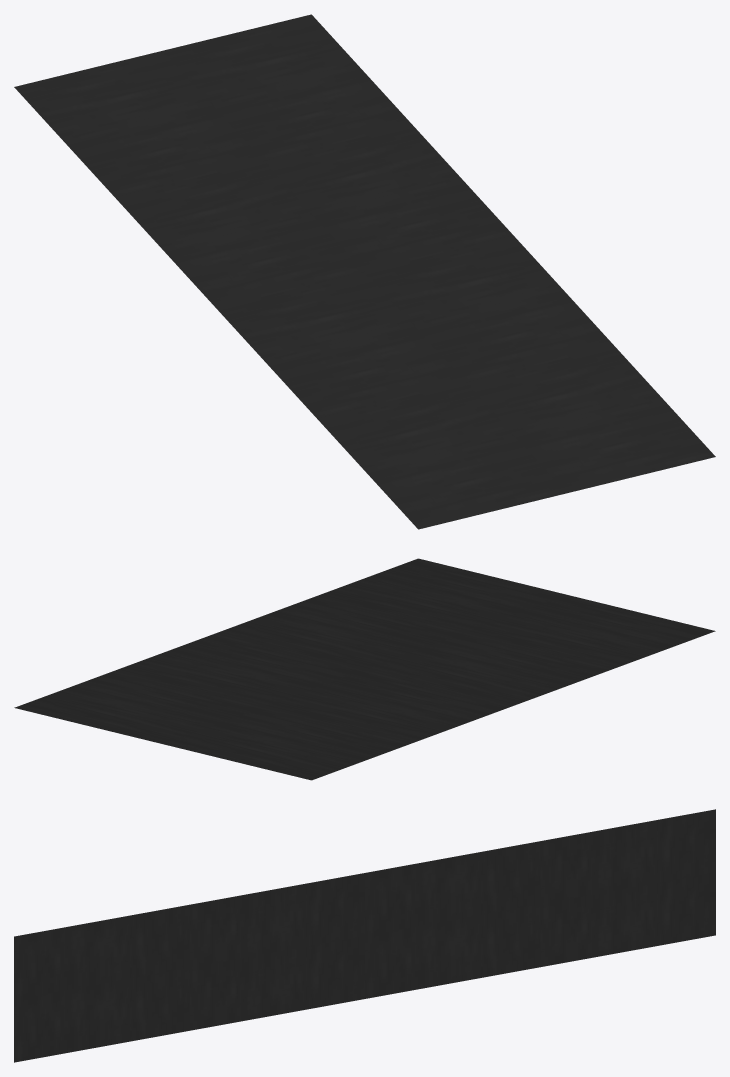
Rendered from SW_ENV_RailTunnelCeiling_TrackRise_Double_20m.fbx.
3 renders of one model, top to bottom at view 1: azimuth 30°, elevation 25°; view 2: azimuth 150°, elevation 25°; view 3: azimuth 270°, elevation 25°, orthographic. The views are drawn at different scales.
Parts seen in each view (by area): view 1: SW_ENV_RailTunnelCeiling_TrackRise_Double_20m; view 2: SW_ENV_RailTunnelCeiling_TrackRise_Double_20m; view 3: SW_ENV_RailTunnelCeiling_TrackRise_Double_20m.
Boxes of the visible parts, bbox=[...] form: SW_ENV_RailTunnelCeiling_TrackRise_Double_20m: bbox=[14, 14, 715, 529]; SW_ENV_RailTunnelCeiling_TrackRise_Double_20m: bbox=[14, 558, 715, 780]; SW_ENV_RailTunnelCeiling_TrackRise_Double_20m: bbox=[14, 809, 715, 1062].
Bounding box in the file's own units: 850 × 400 × 2000.
